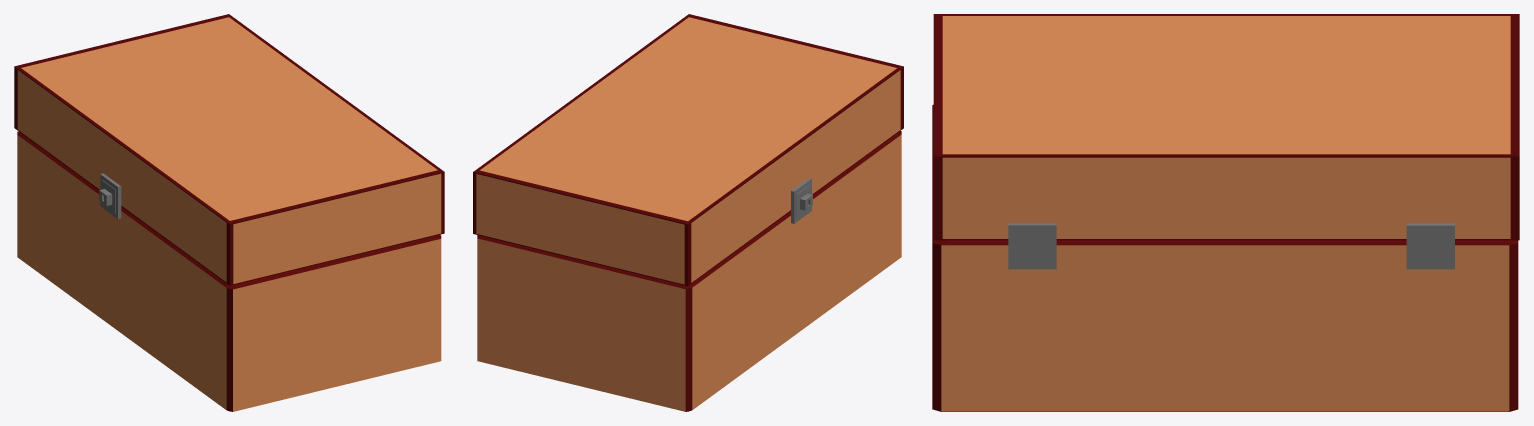
Rendered from locked box.fbx.
3 views of the same model, side by side, from view 1: azimuth 30°, elevation 25°; view 2: azimuth 150°, elevation 25°; view 3: azimuth 270°, elevation 25° (orthographic). The views are drawn at different scales.
Parts seen in each view (by area): view 1: Cube.001, Cube, Cube.004; view 2: Cube.001, Cube, Cube.004; view 3: Cube.001, Cube, Cube.003, Cube.002.
Boxes of the visible parts, box(x1,y1,x2,y2) form: Cube.001: box(14, 14, 444, 285); Cube: box(17, 131, 441, 411); Cube.004: box(99, 173, 121, 219); Cube.001: box(473, 14, 903, 286); Cube: box(477, 131, 901, 411); Cube.004: box(791, 178, 812, 223); Cube.001: box(933, 14, 1519, 240); Cube: box(932, 104, 1518, 411); Cube.003: box(1008, 223, 1056, 269); Cube.002: box(1406, 223, 1454, 269).
Bounding box in the file's own units: 219 × 169 × 349.
